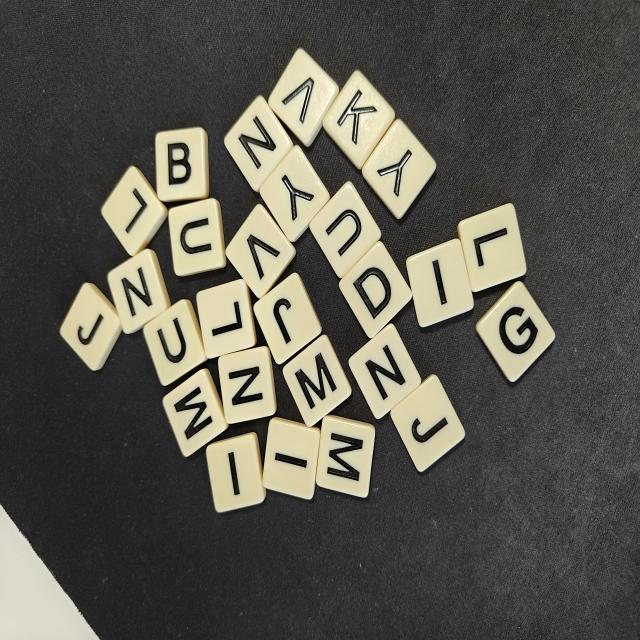b: (155, 127, 209, 202)
d: (339, 241, 412, 338)
g: (476, 281, 555, 381)
i: (406, 239, 474, 326), (206, 432, 266, 513), (262, 418, 320, 499)
j: (390, 374, 465, 471), (253, 273, 322, 364), (60, 283, 121, 370)
k: (322, 70, 395, 169)
l: (458, 203, 526, 292), (101, 166, 167, 256), (196, 279, 256, 358)
m: (283, 335, 351, 426), (163, 368, 229, 457), (316, 415, 375, 497)
n: (348, 324, 421, 419), (224, 95, 293, 191), (108, 249, 171, 333), (218, 346, 277, 424)
u: (310, 182, 381, 278), (143, 299, 207, 385), (168, 199, 226, 276)
v: (268, 48, 339, 146), (226, 204, 296, 298)
y: (363, 120, 436, 219), (259, 146, 330, 242)
